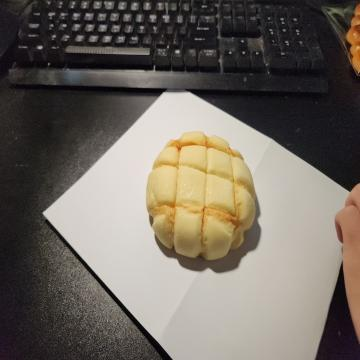melon_bread: (146, 131, 256, 258)
